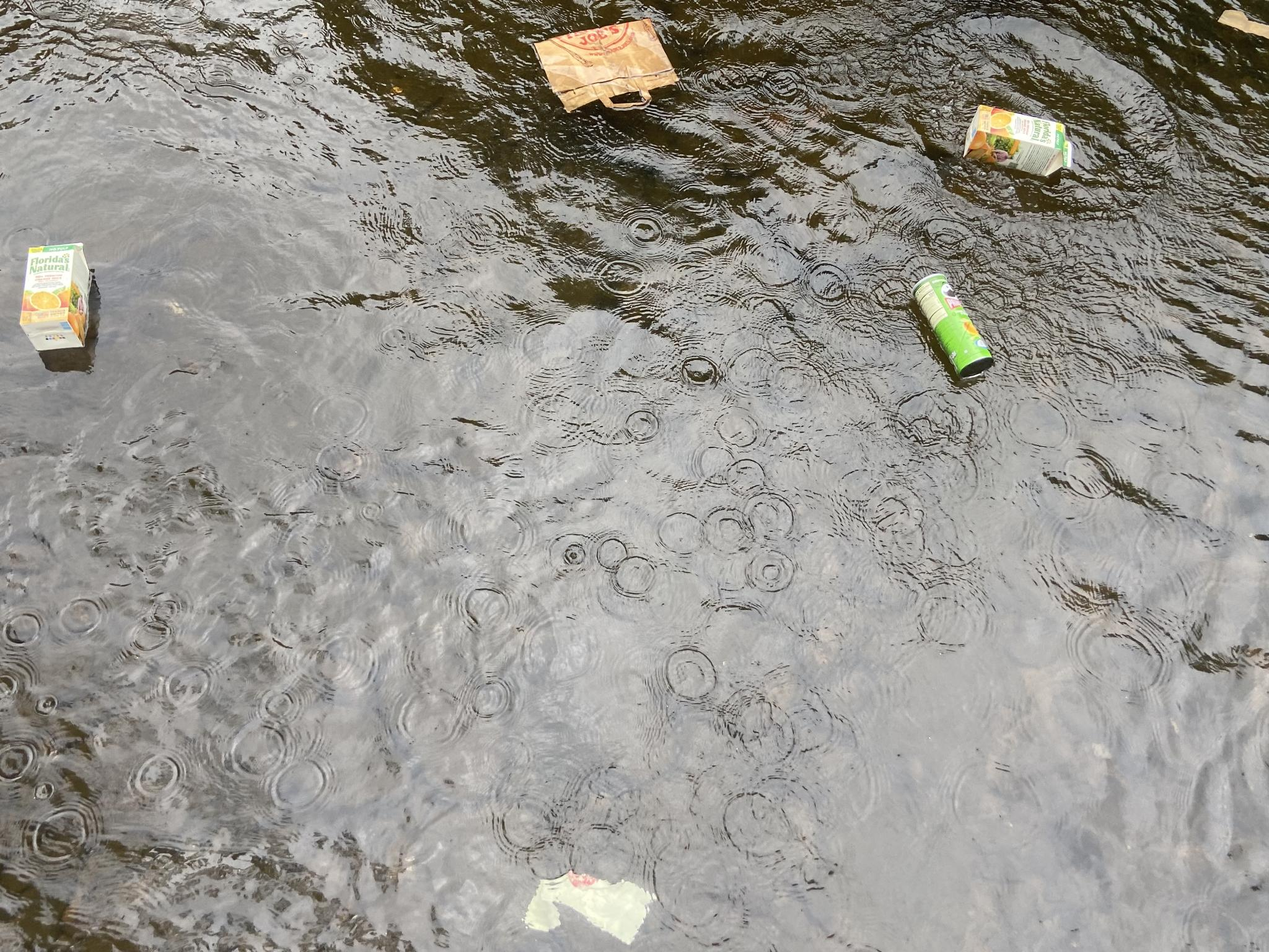cardboard: (950, 96, 1084, 189), (16, 228, 101, 364)
metal: (899, 264, 1001, 389)
paper: (514, 16, 691, 126), (1215, 7, 1269, 45)
plastic: (513, 861, 669, 952)
